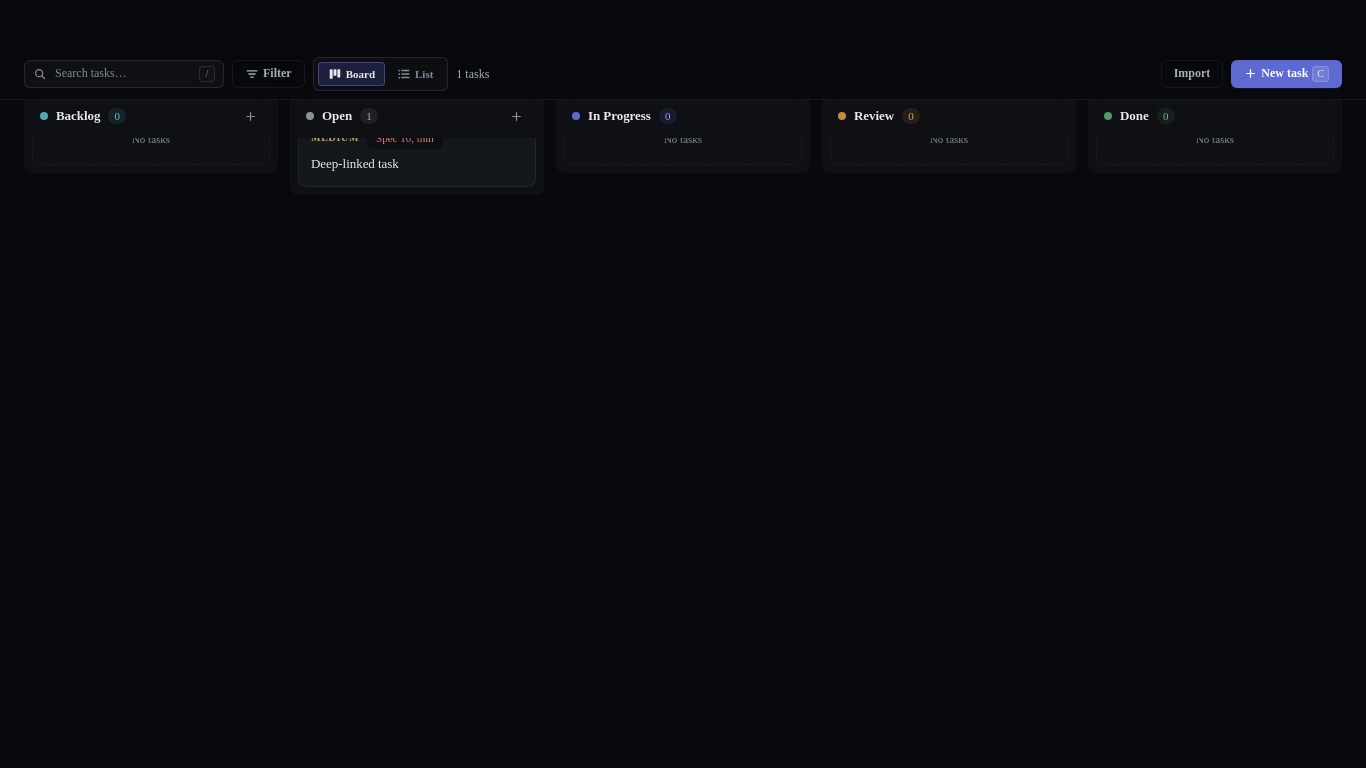
Test: dashboard board column + buttons preselect their own column (column gating, operator decision 2026-08-20) › the Open column's + opens the modal with Open preselected
Check: the button "New task C" is enabled, box [1231, 60, 1342, 88]
Click the button named "Add task to Open" at [516, 116], box [504, 104, 528, 128]
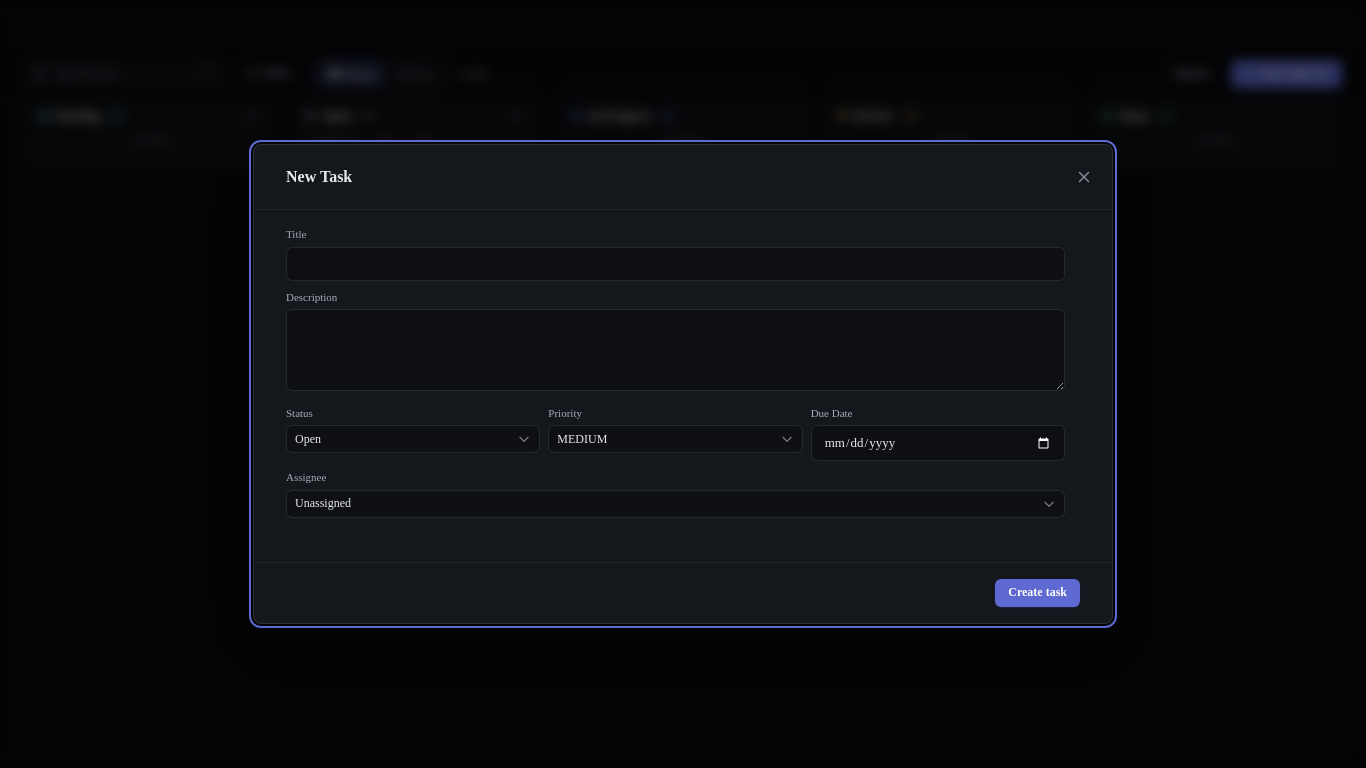
Check: the dropdown named "Status" reads "Open", box [286, 425, 540, 453]
